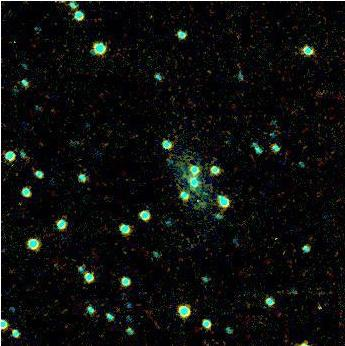star: (169, 158, 199, 188)
